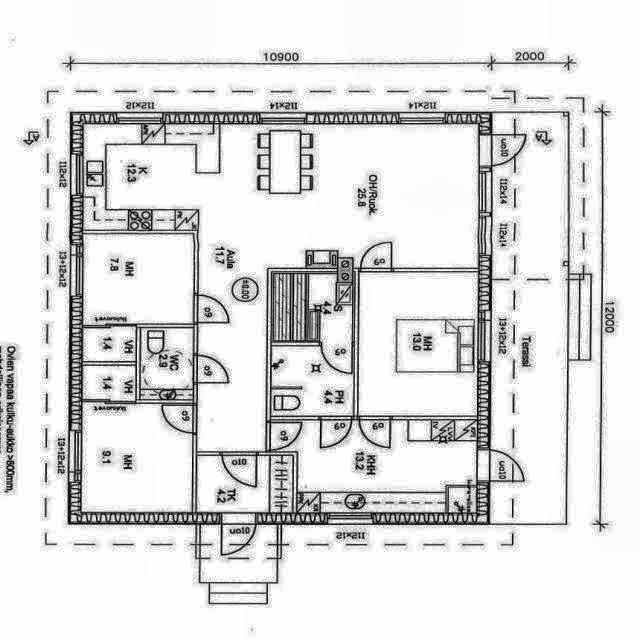room: (271, 420, 477, 513), (359, 272, 478, 416), (81, 402, 193, 513), (83, 234, 194, 326), (271, 346, 354, 420), (272, 272, 352, 342), (197, 456, 292, 512), (141, 328, 193, 399)
